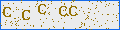C: (69, 6, 77, 16), (59, 6, 67, 16), (38, 4, 46, 14), (22, 10, 30, 20), (3, 7, 11, 17)
